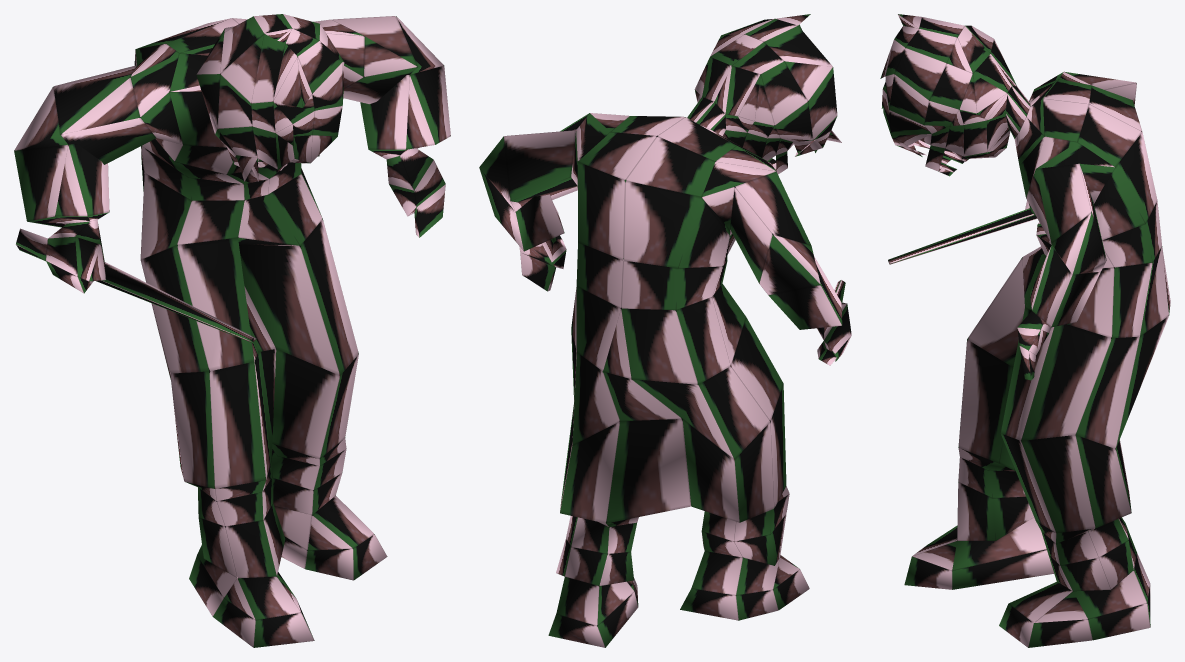
The picture shows the model from 3 angles, left to right: view 1: azimuth 30°, elevation 25°; view 2: azimuth 150°, elevation 25°; view 3: azimuth 270°, elevation 25°; orthographic projection. The views are drawn at different scales.
Parts seen in each view (by area): view 1: T1L1M002_0; view 2: T1L1M002_0; view 3: T1L1M002_0.
Part boxes in pixels (bbox=[...]): T1L1M002_0: bbox=[14, 14, 450, 647]; T1L1M002_0: bbox=[479, 14, 851, 647]; T1L1M002_0: bbox=[880, 14, 1170, 647].
Size of the model in its own units: 0.8007 by 1.15 by 0.546.
